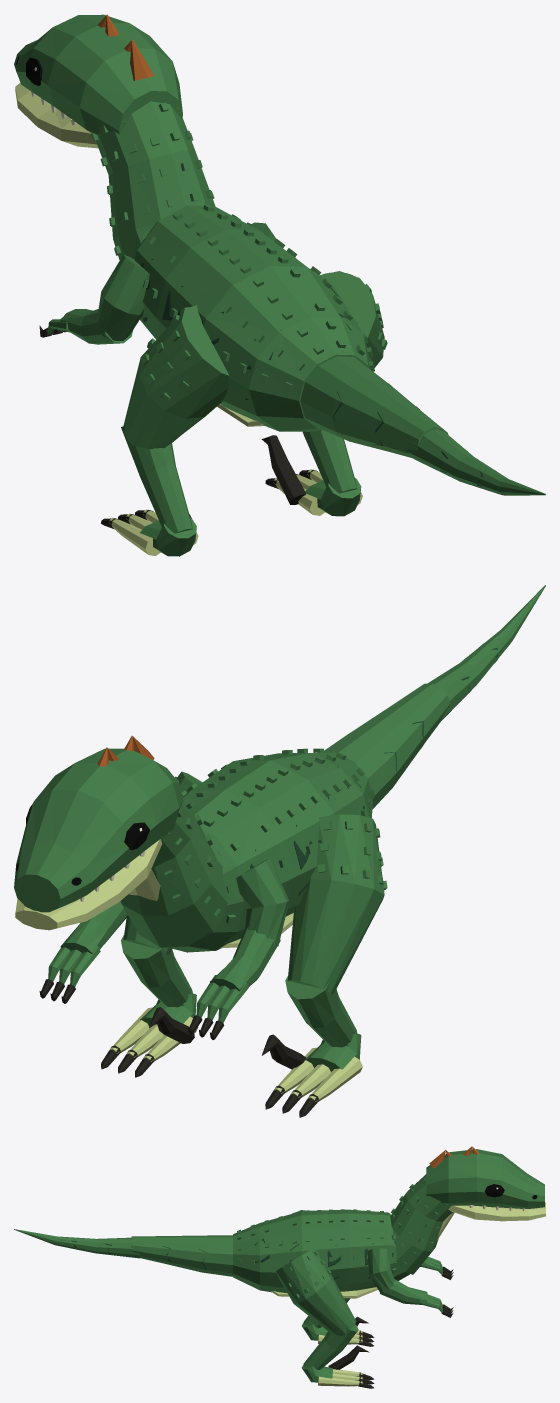
The model's file is Velociraptor.fbx.
3 views of the same model, one above another, from view 1: azimuth 30°, elevation 25°; view 2: azimuth 150°, elevation 25°; view 3: azimuth 270°, elevation 25° (orthographic). The views are drawn at different scales.
Parts seen in each view (by area): view 1: Import3D_Core, Import3D_Head, Import3D_Neck, Import3D_LegBL, Import3D_Tail, Import3D_Tail1, Import3D_FootBR, Import3D_KneeBL, Import3D_ArmL, Import3D_FootBL, Import3D_LegBR, Import3D_KneeBR (+2 smaller); view 2: Import3D_Core, Import3D_Head, Import3D_LegBL, Import3D_Neck, Import3D_Tail, Import3D_FootBL, Import3D_ForearmL, Import3D_FootBR, Import3D_Jaw, Import3D_ForearmR, Import3D_ArmL, Import3D_Tail1 (+3 smaller); view 3: Import3D_Core, Import3D_Head, Import3D_LegBR, Import3D_Neck, Import3D_Tail, Import3D_Tail1, Import3D_FootBR, Import3D_Jaw, Import3D_KneeBR, Import3D_ForearmR, Import3D_ArmR, Import3D_FootBL (+1 smaller).
Boxes of the visible parts, box(x1,y1,x2,y2) form: Import3D_Core: box(135, 205, 374, 431); Import3D_Head: box(14, 14, 182, 135); Import3D_Neck: box(91, 101, 215, 259); Import3D_LegBL: box(123, 305, 229, 449); Import3D_Tail: box(300, 356, 448, 458); Import3D_Tail1: box(407, 429, 545, 495); Import3D_FootBR: box(261, 435, 362, 516); Import3D_KneeBL: box(121, 425, 192, 533); Import3D_ArmL: box(97, 254, 149, 340); Import3D_FootBL: box(101, 509, 198, 556); Import3D_LegBR: box(319, 271, 387, 367); Import3D_KneeBR: box(302, 430, 357, 493); Import3D_Core: box(168, 748, 374, 952); Import3D_Head: box(14, 735, 182, 912); Import3D_LegBL: box(287, 814, 387, 994); Import3D_Neck: box(120, 796, 227, 947); Import3D_Tail: box(324, 683, 450, 809); Import3D_FootBL: box(261, 1033, 362, 1117); Import3D_ForearmL: box(188, 927, 280, 1039); Import3D_FootBR: box(101, 993, 198, 1077); Import3D_Jaw: box(15, 839, 162, 930); Import3D_ForearmR: box(39, 901, 128, 1003); Import3D_ArmL: box(236, 858, 289, 946); Import3D_Tail1: box(427, 585, 545, 720); Import3D_Core: box(233, 1209, 409, 1298); Import3D_Head: box(426, 1146, 544, 1211); Import3D_LegBR: box(276, 1248, 356, 1335); Import3D_Neck: box(390, 1174, 454, 1274); Import3D_Tail: box(130, 1235, 232, 1276); Import3D_Tail1: box(14, 1229, 140, 1258); Import3D_FootBR: box(301, 1345, 374, 1388); Import3D_Jaw: box(448, 1202, 545, 1221); Import3D_KneeBR: box(303, 1324, 358, 1369); Import3D_ForearmR: box(380, 1279, 453, 1317); Import3D_ArmR: box(367, 1248, 394, 1293); Import3D_FootBL: box(302, 1316, 374, 1346).
Size of the model in its own units: 147 by 246 by 547.
1 material, 1 textured.
